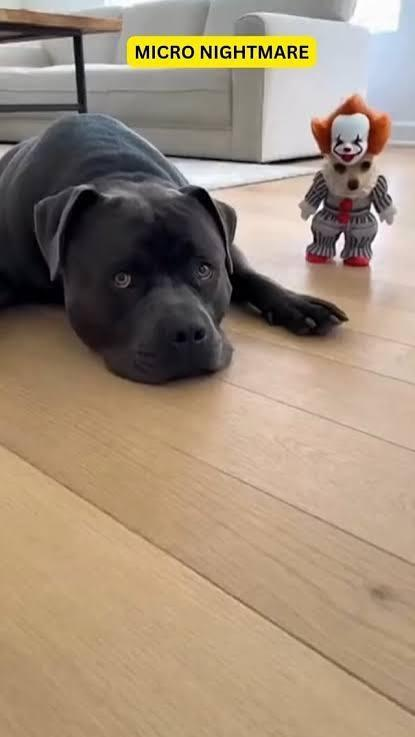adult_dog: (0, 111, 352, 385)
non-dog: (298, 92, 398, 268)
